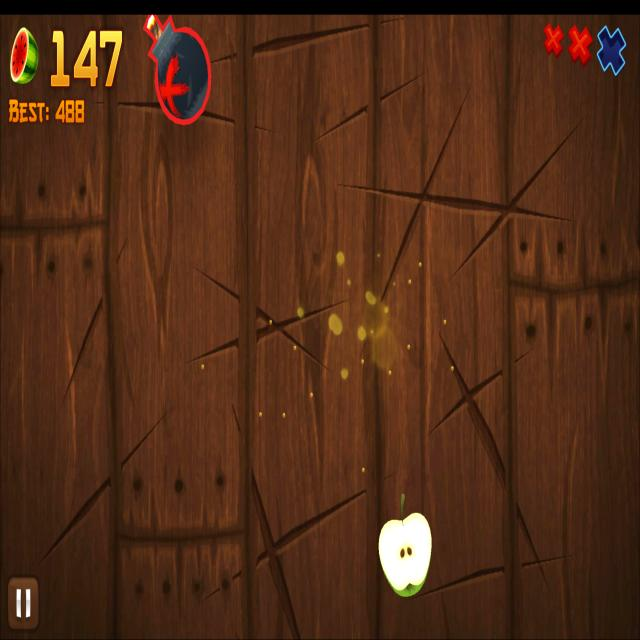bomb: (143, 14, 212, 125)
